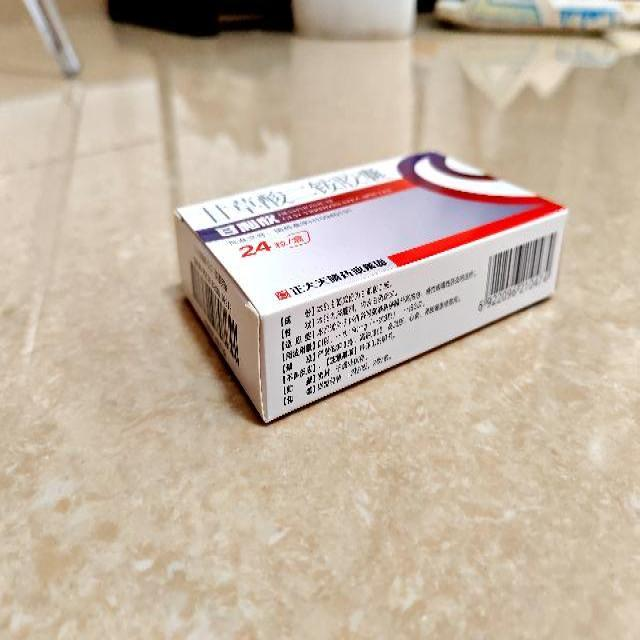box: (175, 149, 567, 427)
